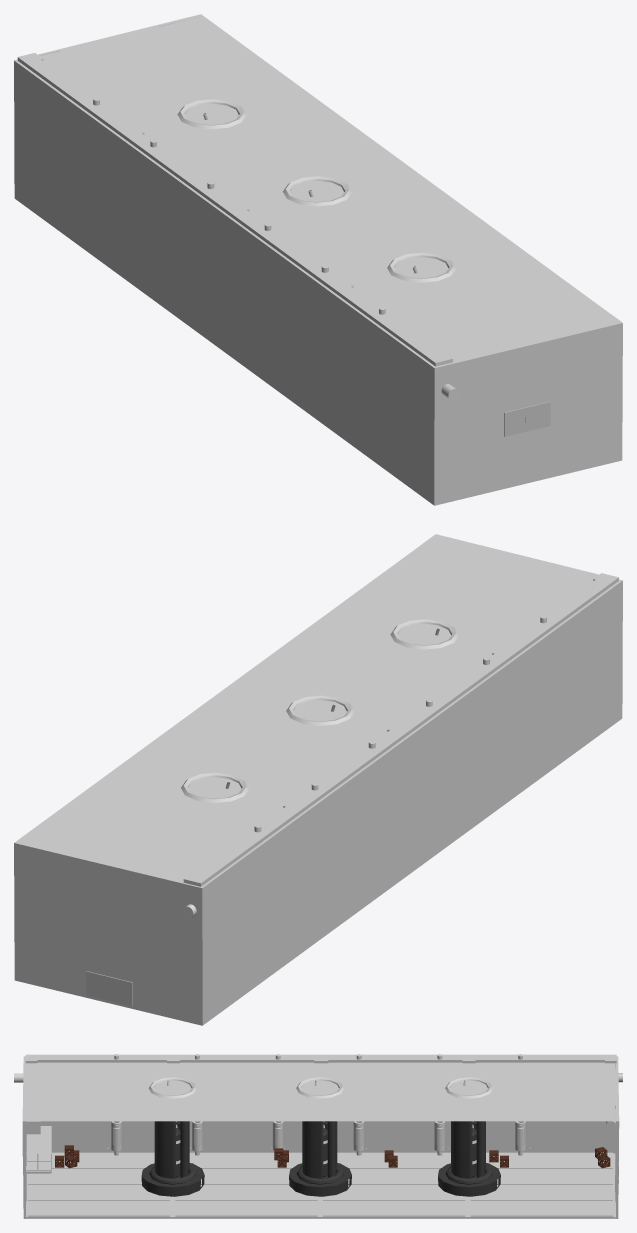
File: location3.fbx
3 renders of one model, top to bottom at view 1: azimuth 30°, elevation 25°; view 2: azimuth 150°, elevation 25°; view 3: azimuth 270°, elevation 25°, orthographic. The views are drawn at different scales.
Parts seen in each view (by area): view 1: Plane, Cube, Torus, Torus.004, Torus.002; view 2: Plane, Cube, Torus, Torus.002, Torus.004; view 3: Plane, Plane.001, Plane.002, Cube, Torus.003, Torus.001, Torus.005, Cylinder.001, Plane.006, Cube.004, Torus, Torus.002 (+3 smaller).
Part boxes in pixels (box(x1,y1,x2,y2)): Plane: box(14, 14, 622, 505); Cube: box(17, 53, 452, 366); Torus: box(387, 252, 457, 282); Torus.004: box(177, 99, 247, 129); Torus.002: box(283, 176, 352, 206); Plane: box(14, 534, 622, 1025); Cube: box(183, 573, 618, 886); Torus: box(390, 619, 458, 649); Torus.002: box(286, 695, 354, 725); Torus.004: box(181, 772, 248, 802); Plane: box(22, 1056, 619, 1218); Plane.001: box(26, 1152, 615, 1217); Plane.002: box(40, 1121, 601, 1151); Cube: box(25, 1054, 616, 1066); Torus.003: box(289, 1121, 351, 1196); Torus.001: box(141, 1121, 204, 1196); Torus.005: box(438, 1121, 500, 1196); Cylinder.001: box(111, 1054, 526, 1155); Plane.006: box(26, 1121, 51, 1173); Cube.004: box(55, 1155, 508, 1167); Torus: box(148, 1077, 196, 1098); Torus.002: box(296, 1077, 344, 1098).
Size of the model in its own units: 3377 by 2510 by 13365.
